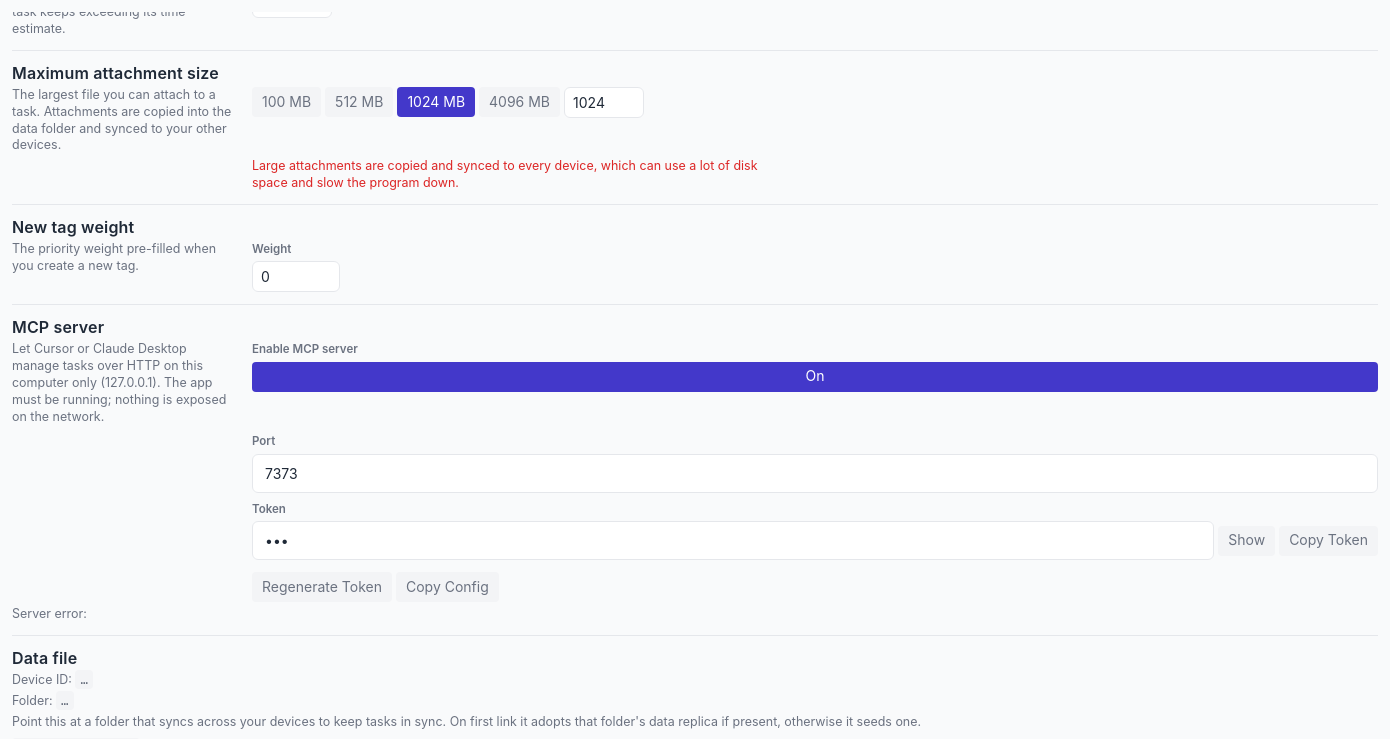
Scenario: SettingsView MCP server › rejects non-digit or out-of-range port input 1e4
The width and height of the screenshot is (1390, 739).
(page scrolled)
Replace the text in the field showing "7373" with "1e4": x=815, y=473 [252,454,1378,493]
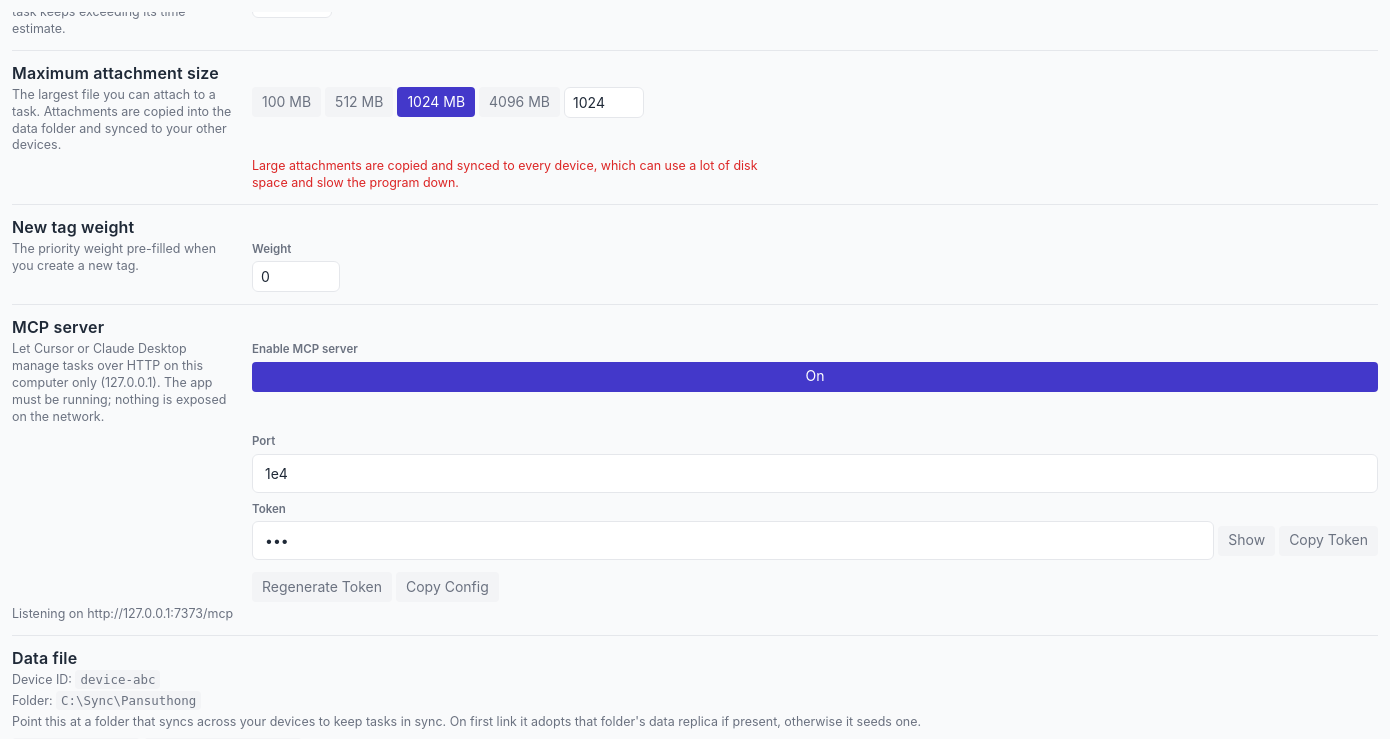
Leave the field showing "7373", box [252,454,1378,493]
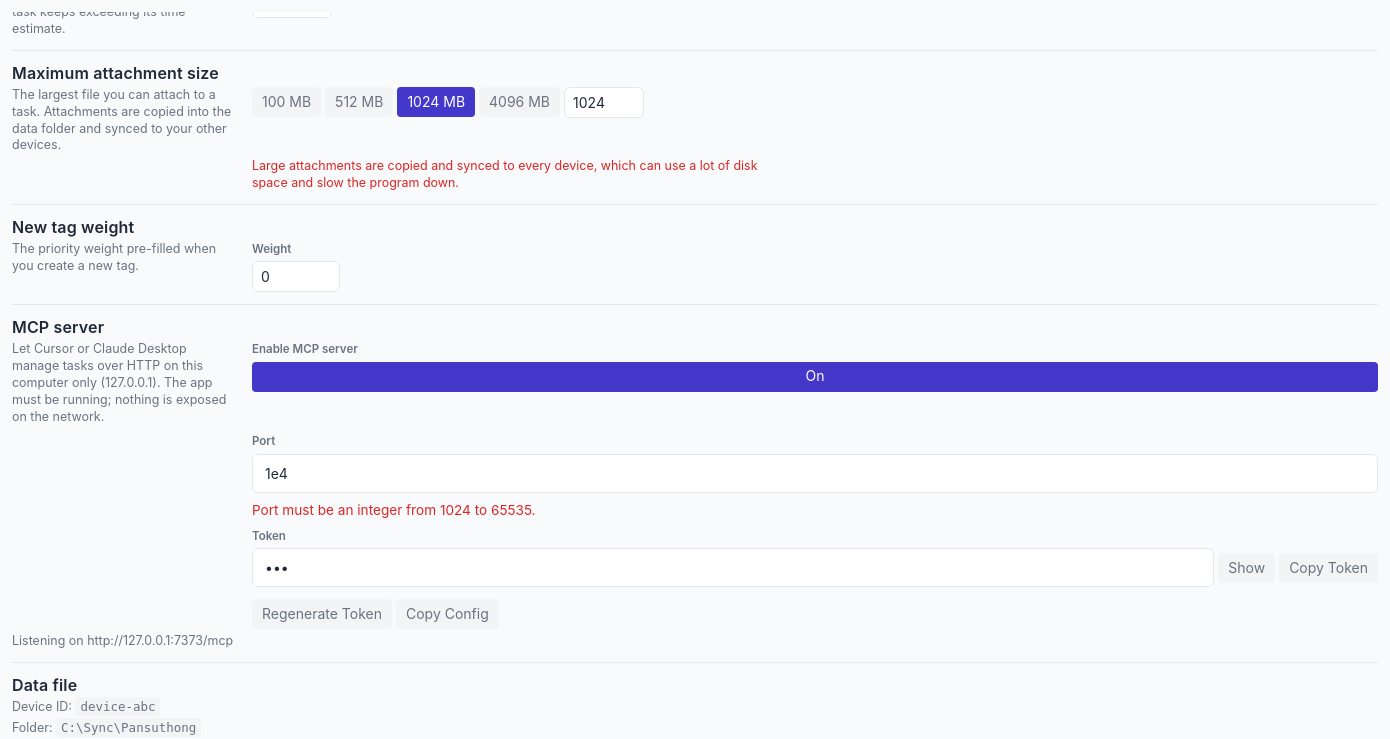
Check: the text "Port must be an integer from 1024 to 65535." is shown, box [252,502,536,518]
